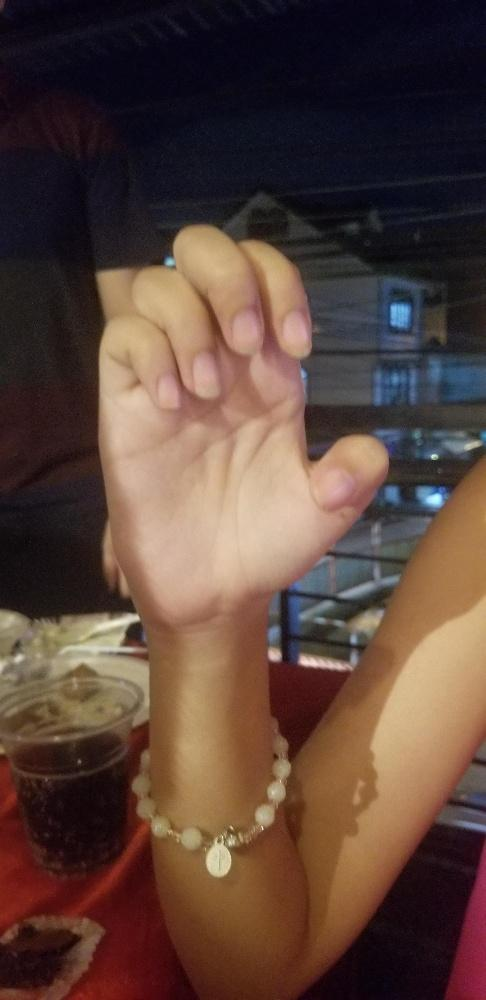e: (93, 223, 388, 595)
